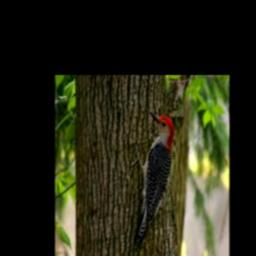Woodpecker: (131, 110, 174, 242)
